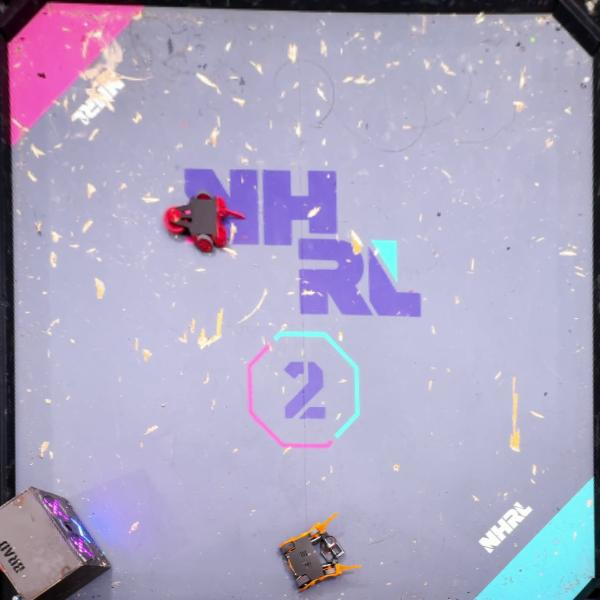housebot: (0, 484, 113, 599)
robot: (277, 512, 363, 592), (162, 193, 245, 254)
